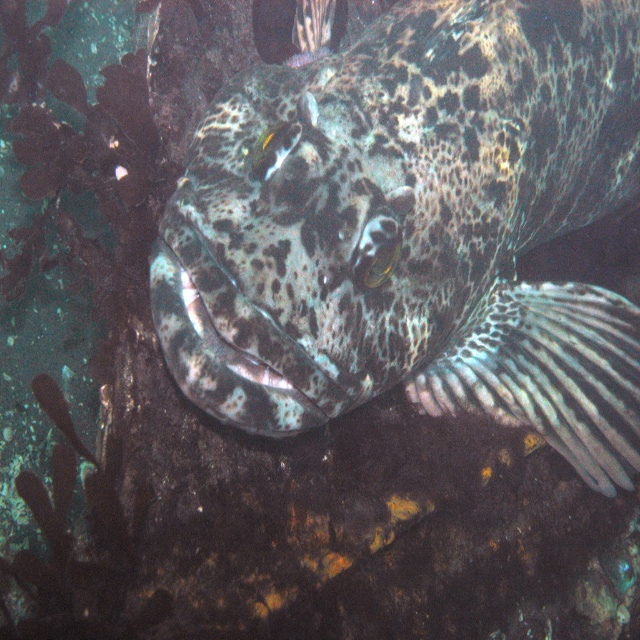Fish: (138, 0, 638, 511)
